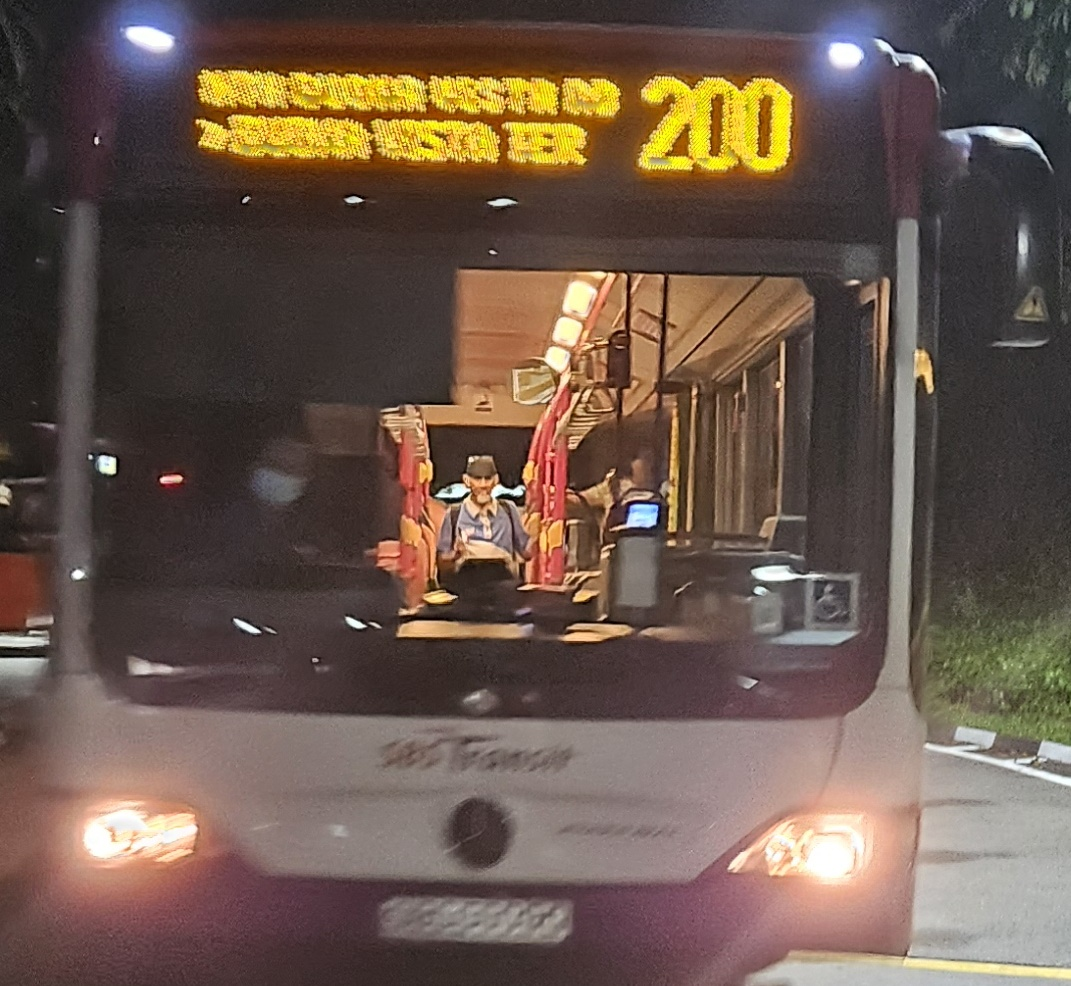bus: (630, 65, 811, 181)
